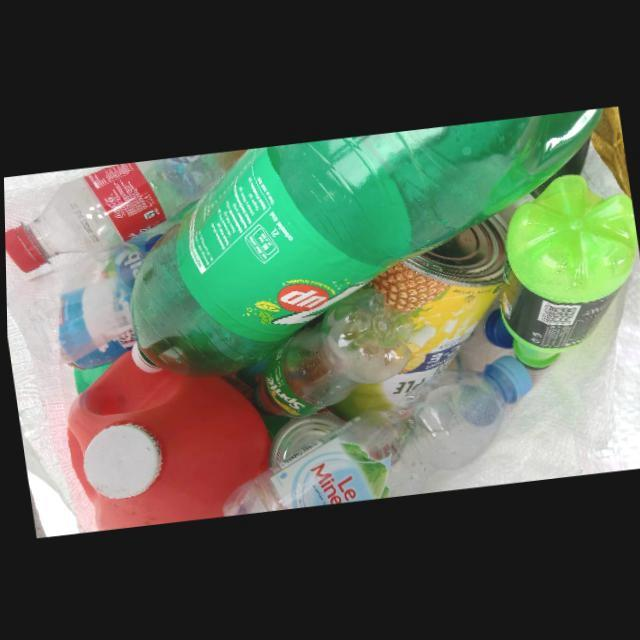aluminum: (324, 212, 506, 420), (266, 407, 345, 467)
plastic_bottle: (127, 107, 603, 376), (219, 355, 531, 517), (64, 350, 270, 531), (4, 149, 247, 272), (498, 172, 637, 368), (5, 213, 176, 365), (254, 283, 413, 417)
